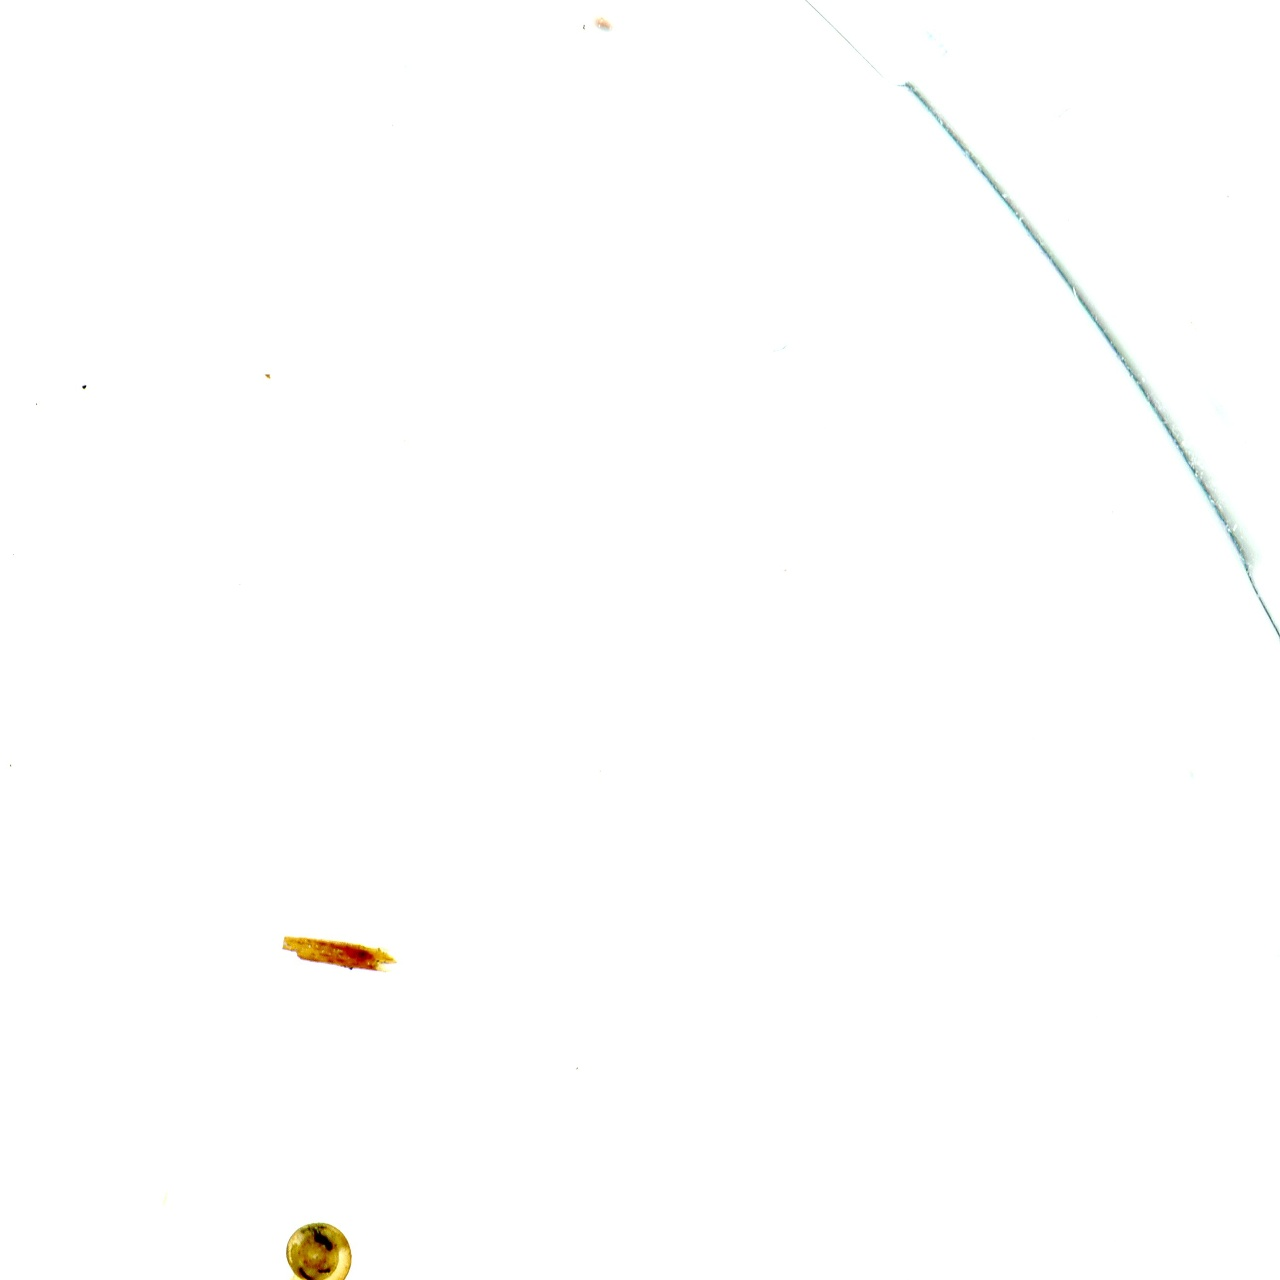arthropod: (280, 1213, 358, 1280)
